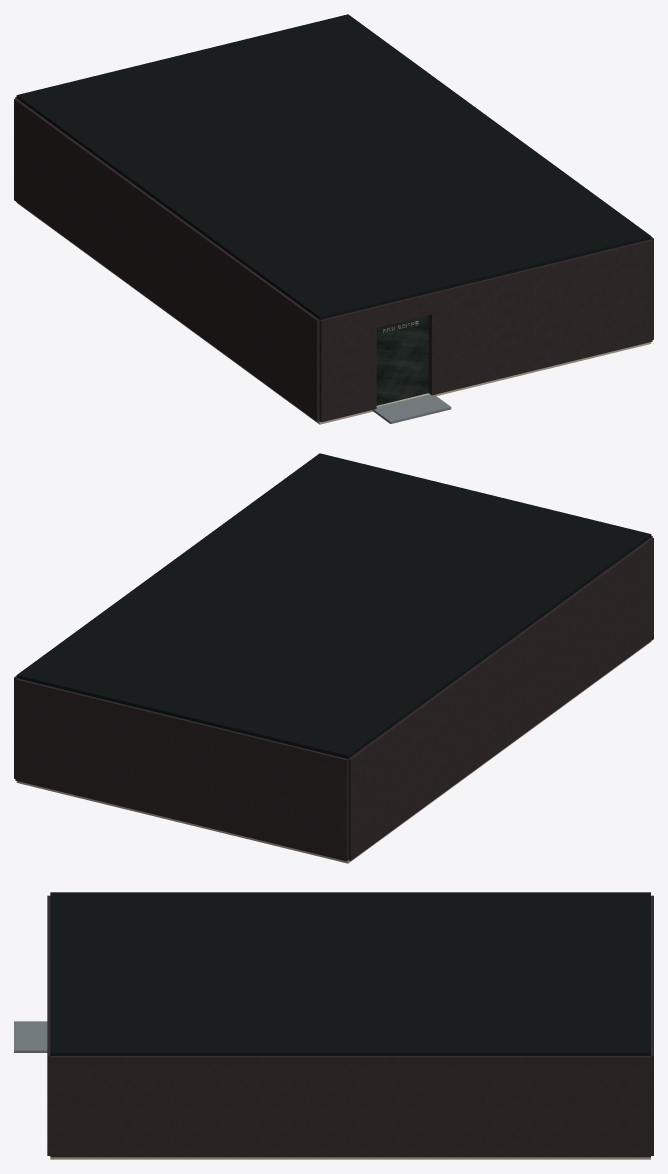
The model's file is yeongsanpo-history.glb.
The picture shows the model from 3 angles, top to bottom: view 1: azimuth 30°, elevation 25°; view 2: azimuth 150°, elevation 25°; view 3: azimuth 270°, elevation 25°; orthographic projection.
Visible parts, largest first — view 1: cutaway_ceiling, v79_batch_Y79_plaster_0_0_0, ground_floor_river_finish, walk-floor_exit, ground_floor_interior; view 2: cutaway_ceiling, v79_batch_Y79_plaster_0_0_0, ground_floor_interior; view 3: cutaway_ceiling, v79_batch_Y79_plaster_0_0_0, ground_floor_interior, walk-floor_exit.
Part boxes in pixels (box(x1,y1,x2,y2)): cutaway_ceiling: box(16, 14, 651, 319); v79_batch_Y79_plaster_0_0_0: box(14, 97, 653, 422); ground_floor_river_finish: box(376, 315, 428, 405); walk-floor_exit: box(372, 394, 451, 423); ground_floor_interior: box(16, 202, 651, 424); cutaway_ceiling: box(16, 453, 651, 758); v79_batch_Y79_plaster_0_0_0: box(14, 536, 653, 861); ground_floor_interior: box(16, 641, 651, 863); cutaway_ceiling: box(50, 892, 650, 1055); v79_batch_Y79_plaster_0_0_0: box(47, 895, 653, 1157); ground_floor_interior: box(50, 1157, 650, 1159); walk-floor_exit: box(14, 1021, 47, 1052).
Size of the model in its own units: 12.2 by 3.73 by 20.25.
74 materials, 10 textured.
